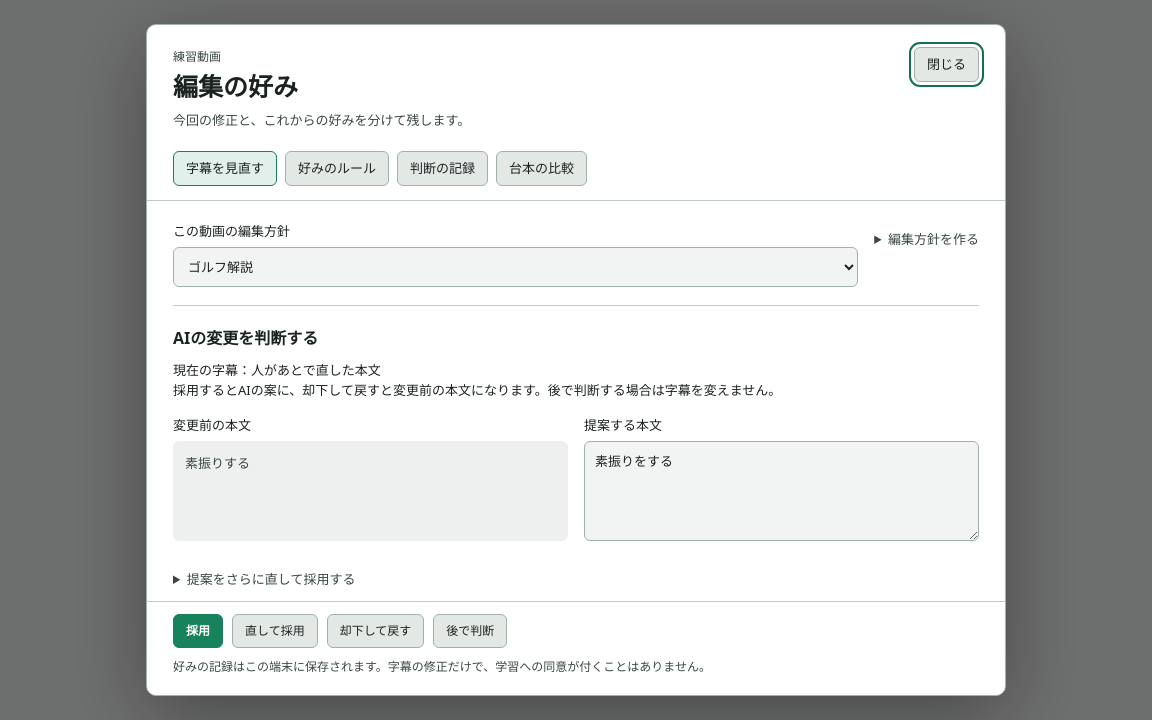
AIがすでに編集した字幕への人の判断 › 採用前に現在版が変わったら人の判断を記録しない
Expected: the text box labelled "提案する本文" is shown, top-left (584, 441), bottom-right (979, 541)
What coordinates should you click on to do the following:
click the button "採用"
I would click on:
 (198, 631)
Its box is top-left (173, 614), bottom-right (223, 648).
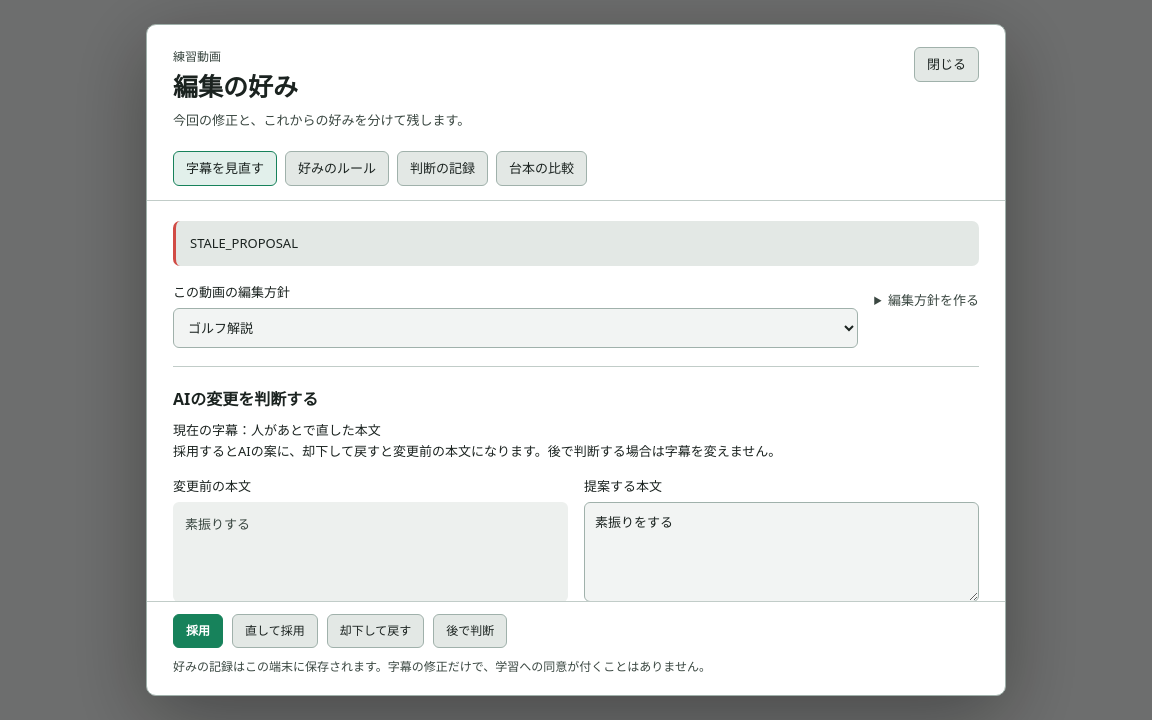
Expected: the message "STALE_PROPOSAL" is shown, top-left (173, 221), bottom-right (979, 266)
